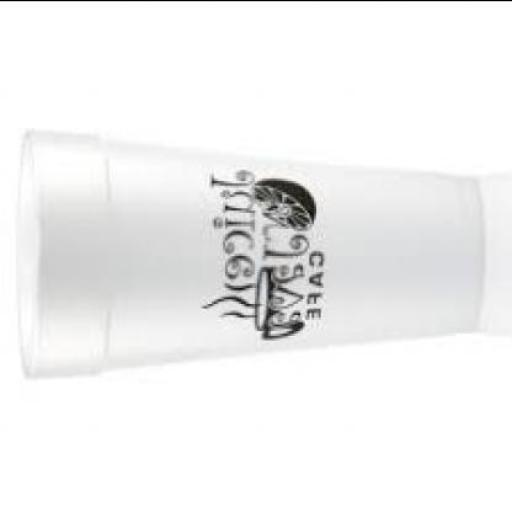paper: (14, 125, 482, 371)
